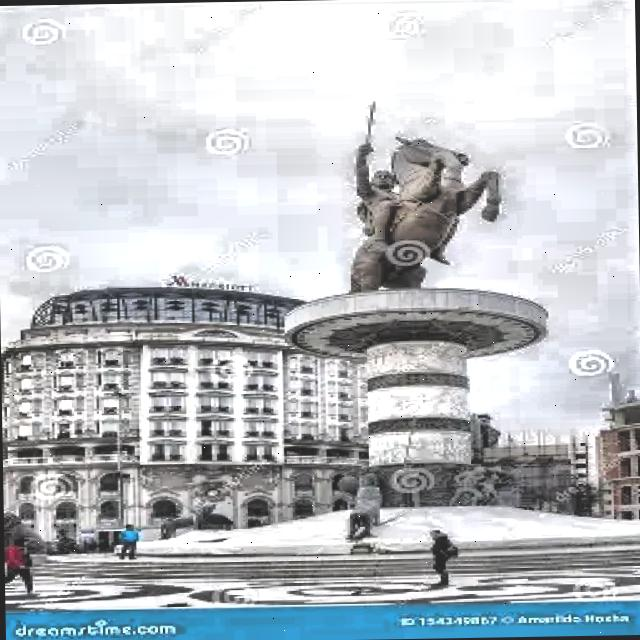alexander the great monument: (268, 84, 562, 518)
